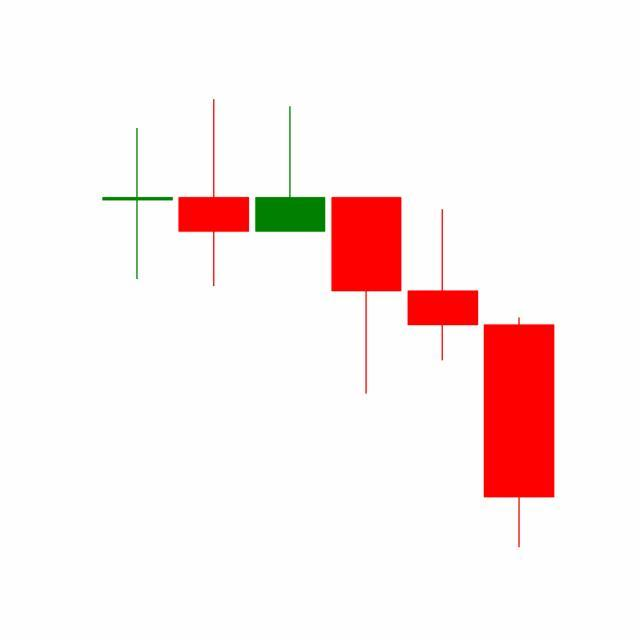Spinning Top: (404, 209, 482, 364)
